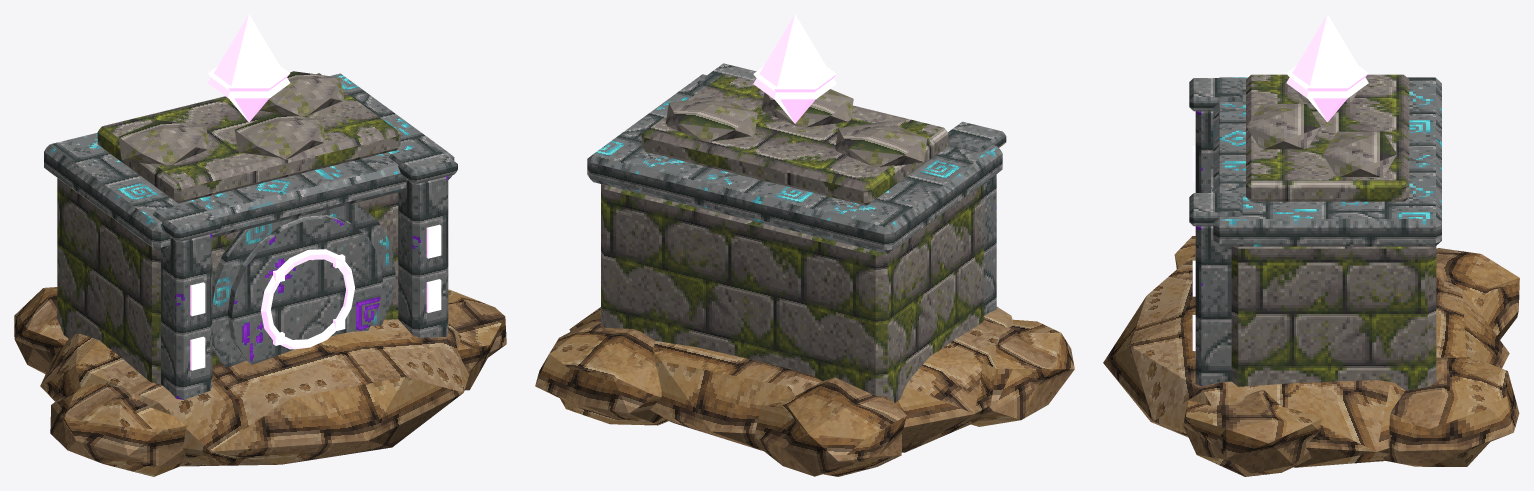
The model's file is exp_vault.glb.
3 renders of one model, left to right at view 1: azimuth 30°, elevation 25°; view 2: azimuth 150°, elevation 25°; view 3: azimuth 270°, elevation 25°, orthographic.
Visible parts, largest first — view 1: Vault, Crystal; view 2: Vault, Crystal; view 3: Vault, Crystal.
Boxes of the visible parts, x1=… form: Vault: x1=14, y1=71, x2=506, y2=476; Crystal: x1=207, y1=14, x2=290, y2=122; Vault: x1=535, y1=63, x2=1074, y2=476; Crystal: x1=753, y1=14, x2=836, y2=123; Vault: x1=1103, y1=74, x2=1519, y2=476; Crystal: x1=1286, y1=14, x2=1368, y2=122.
Size of the model in its own units: 4.67 by 4.19 by 3.83.
Materials: 5 (4 with a texture image).
